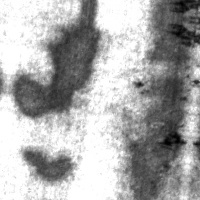patches: (15, 2, 104, 123), (125, 72, 192, 199), (142, 16, 198, 80), (17, 142, 74, 185)
